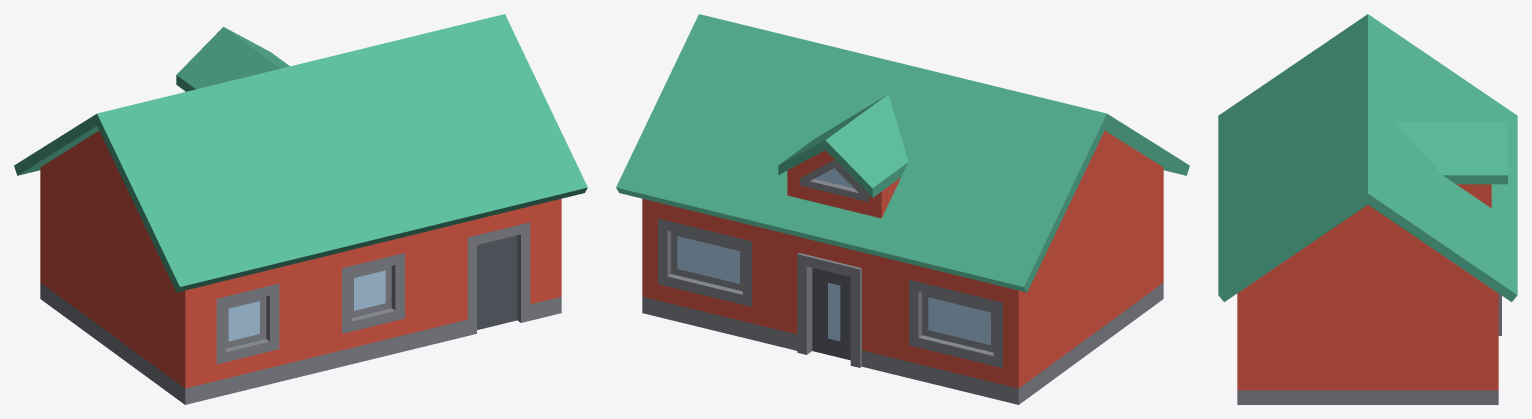
Rendered from house_type07.dae.
3 renders of one model, left to right at view 1: azimuth 30°, elevation 25°; view 2: azimuth 150°, elevation 25°; view 3: azimuth 270°, elevation 25°, orthographic. The views are drawn at different scales.
Visible parts, largest first — view 1: house_type07; view 2: house_type07; view 3: house_type07.
Part boxes in pixels (x1,y1,x2,y2): house_type07: (14, 14, 587, 404); house_type07: (616, 14, 1189, 404); house_type07: (1218, 14, 1517, 404).
Size of the model in its own units: 1.3 by 0.7375 by 0.916.
